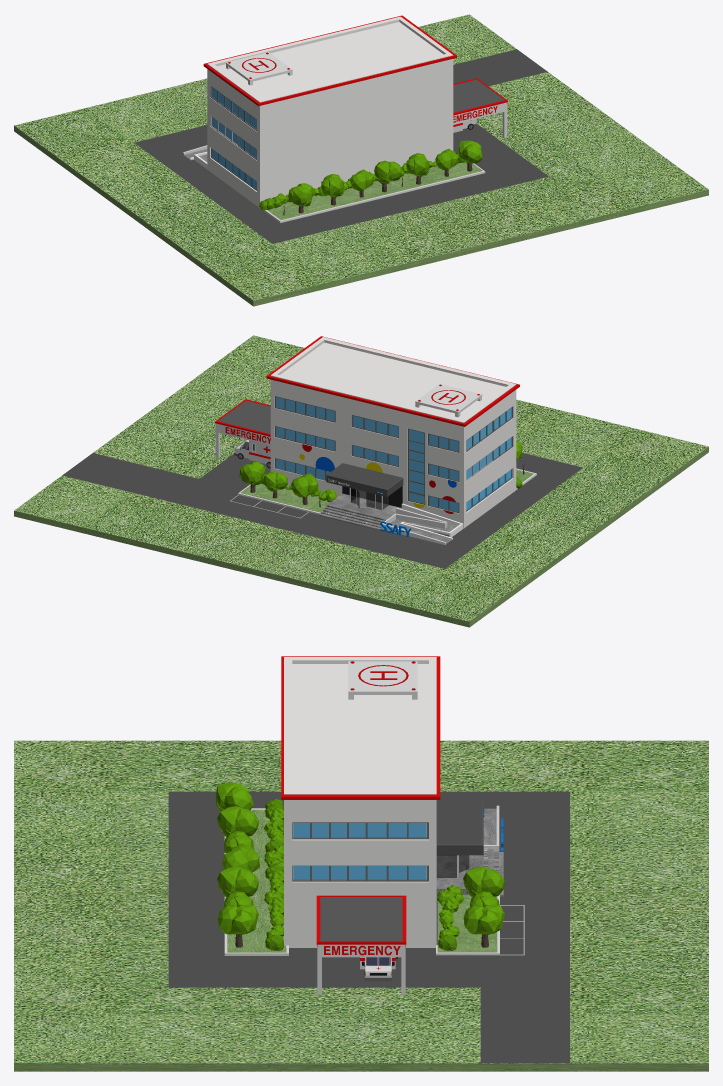
File: ssafy_hospital.fbx
3 views of the same model, one above another, from view 1: azimuth 30°, elevation 25°; view 2: azimuth 150°, elevation 25°; view 3: azimuth 270°, elevation 25° (orthographic). The views are drawn at different scales.
Visible parts, largest first — view 1: pCube1, pCube20, pPlane1, pCube48, pCube39, pCube40, pCube45, pCube49, pCube46, Icosphere6, Icosphere2, Icosphere7; view 2: pCube1, pCube20, pPlane1, pasted__pCube6, pCube12, pCube39, pCube40, pCube45, pPlane18, pCube7, pCube10, pCube11 (+8 smaller); view 3: pCube1, pPlane1, pCube20, pCube45, pCube12, pCube48, pCube40, pCube39, pPlane16, pPlane17, pasted__pCube6, pCube7 (+11 smaller).
Part boxes in pixels (left/top/right/bottom): pCube1: left=14, top=14, right=708, bottom=306; pCube20: left=207, top=16, right=453, bottom=207; pPlane1: left=134, top=49, right=548, bottom=243; pCube48: left=267, top=162, right=482, bottom=220; pCube39: left=203, top=15, right=456, bottom=106; pCube40: left=226, top=52, right=292, bottom=81; pCube45: left=453, top=79, right=504, bottom=112; pCube49: left=264, top=163, right=485, bottom=222; pCube46: left=453, top=102, right=507, bottom=137; Icosphere6: left=374, top=160, right=402, bottom=183; Icosphere2: left=458, top=140, right=482, bottom=163; Icosphere7: left=288, top=183, right=313, bottom=206; pCube1: left=14, top=335, right=708, bottom=627; pCube20: left=270, top=337, right=516, bottom=528; pPlane1: left=62, top=452, right=582, bottom=568; pasted__pCube6: left=319, top=493, right=401, bottom=530; pCube12: left=326, top=463, right=403, bottom=496; pCube39: left=266, top=336, right=519, bottom=426; pCube40: left=415, top=384, right=482, bottom=413; pCube45: left=218, top=400, right=270, bottom=433; pPlane18: left=409, top=429, right=424, bottom=503; pCube7: left=240, top=483, right=330, bottom=512; pCube10: left=381, top=508, right=447, bottom=544; pCube11: left=400, top=503, right=463, bottom=539; pCube1: left=14, top=740, right=708, bottom=1071; pPlane1: left=168, top=791, right=569, bottom=1062; pCube20: left=284, top=657, right=436, bottom=947; pCube45: left=320, top=897, right=402, bottom=941; pCube12: left=436, top=801, right=483, bottom=855; pCube48: left=227, top=809, right=285, bottom=952; pCube40: left=348, top=661, right=417, bottom=694; pCube39: left=281, top=656, right=440, bottom=799; pPlane16: left=293, top=823, right=426, bottom=837; pPlane17: left=293, top=866, right=426, bottom=879; pasted__pCube6: left=436, top=847, right=503, bottom=896; pCube7: left=437, top=894, right=497, bottom=952.
Size of the model in its own units: 82.51 by 20.07 by 75.12.
Materials: 38 (3 with a texture image).
